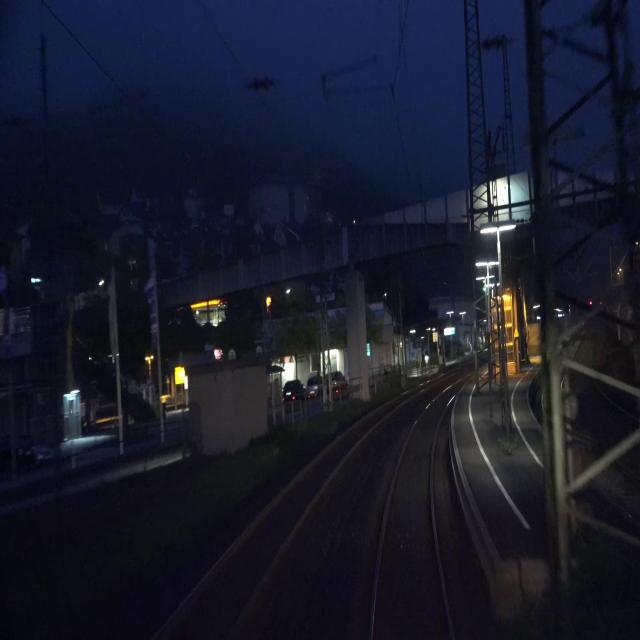rail-track: (157, 393, 410, 639), (373, 379, 467, 639)
